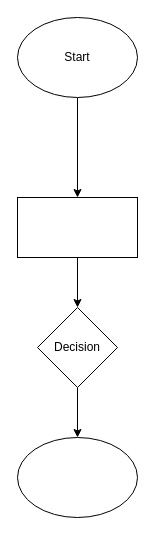
Some shapes in this 155 by 535 pixel diagram are drawn without their labels. Here are the shapes that lost their labels. From the top down, the box of each, then its label:
(16, 196, 138, 258): Process
(16, 436, 138, 518): End
